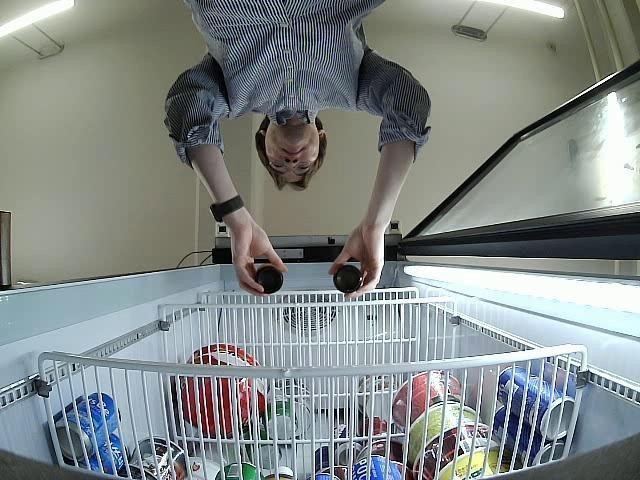17_vita500: (254, 264, 284, 296), (334, 264, 364, 292)
